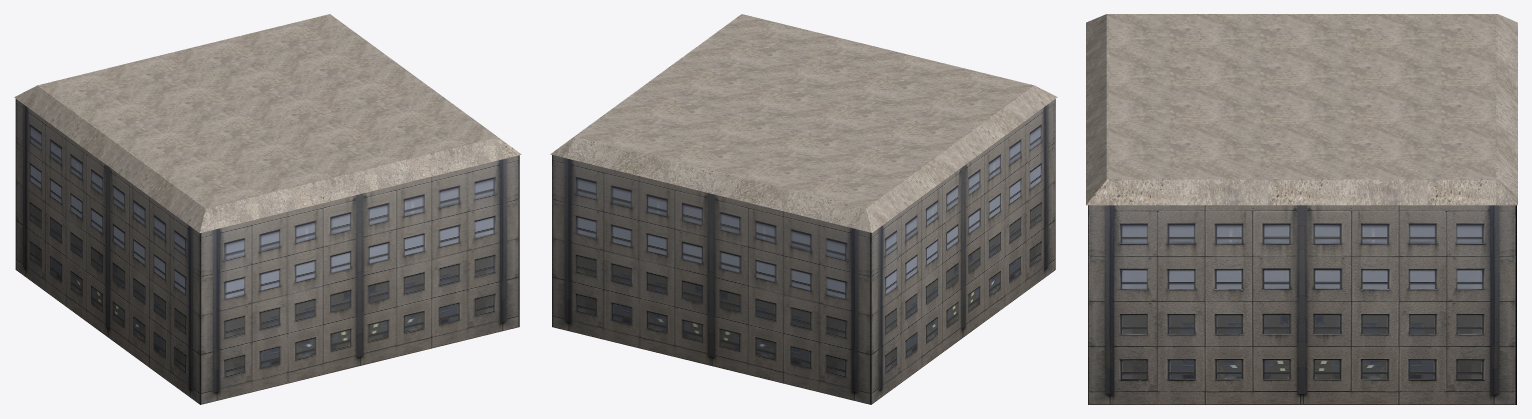
Rendered from BagSS01top_0.fbx.
The picture shows the model from 3 angles, left to right: view 1: azimuth 30°, elevation 25°; view 2: azimuth 150°, elevation 25°; view 3: azimuth 270°, elevation 25°; orthographic projection. The views are drawn at different scales.
Visible parts, largest first — view 1: topBox0, topB0; view 2: topBox0, topB0; view 3: topBox0, topB0.
Part boxes in pixels (box(x1,y1,x2,y2)): topBox0: box(15, 99, 519, 404); topB0: box(14, 14, 521, 232); topBox0: box(552, 99, 1055, 404); topB0: box(550, 14, 1057, 232); topBox0: box(1088, 205, 1516, 404); topB0: box(1086, 14, 1517, 205).
Size of the model in its own units: 16.83 by 9.34 by 16.8.
